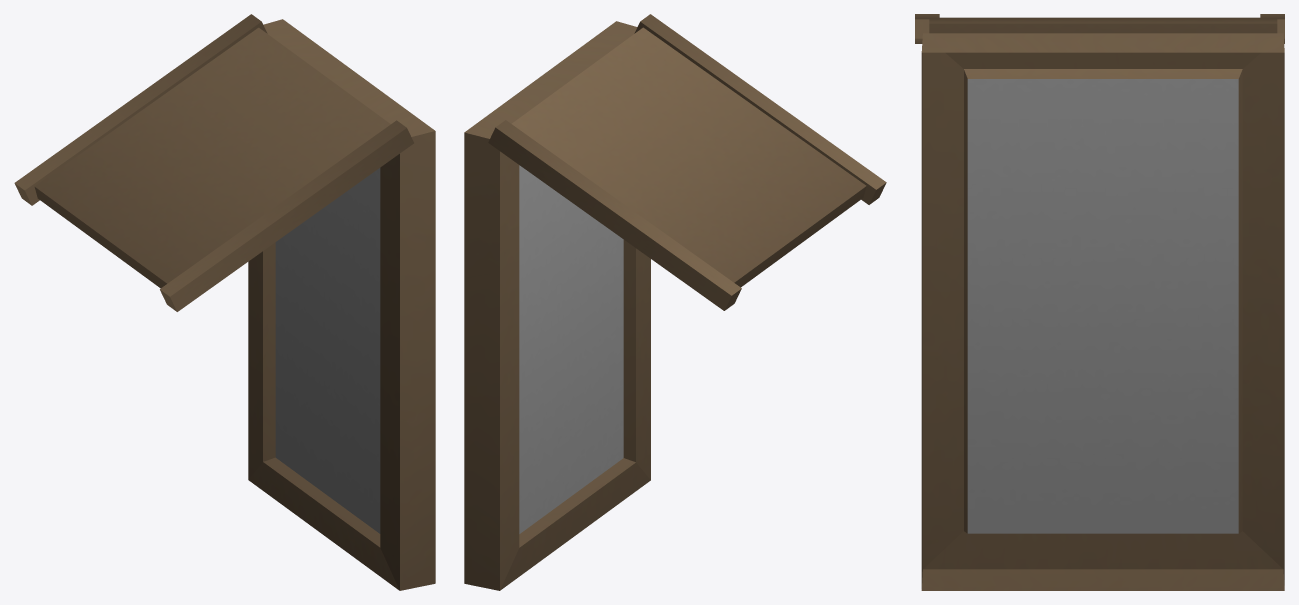
Rendered from ZLP_Build_D_29.FBX.
3 views of the same model, side by side, from view 1: azimuth 30°, elevation 25°; view 2: azimuth 150°, elevation 25°; view 3: azimuth 270°, elevation 25° (orthographic). The views are drawn at different scales.
Parts seen in each view (by area): view 1: ZLP_Build_D_29; view 2: ZLP_Build_D_29; view 3: ZLP_Build_D_29.
Part boxes in pixels (left/top/right/bottom): ZLP_Build_D_29: left=14, top=14, right=435, bottom=590; ZLP_Build_D_29: left=464, top=14, right=886, bottom=590; ZLP_Build_D_29: left=915, top=14, right=1284, bottom=590.
Bounding box in the file's own units: 99.23 × 165 × 99.63.
